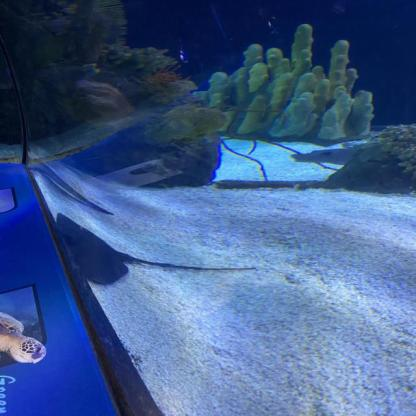stingray: (55, 212, 129, 286), (289, 146, 363, 166)
